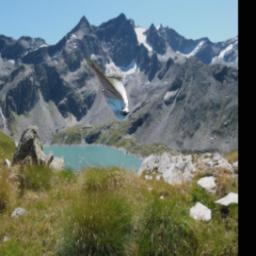Swallow: (87, 59, 132, 122)
